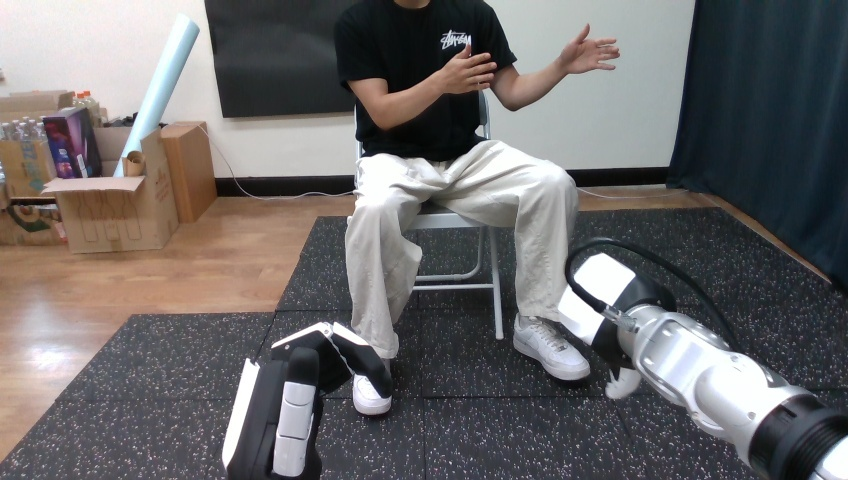left robot hand: (558, 237, 847, 479), (222, 322, 392, 479), (557, 24, 619, 76)
